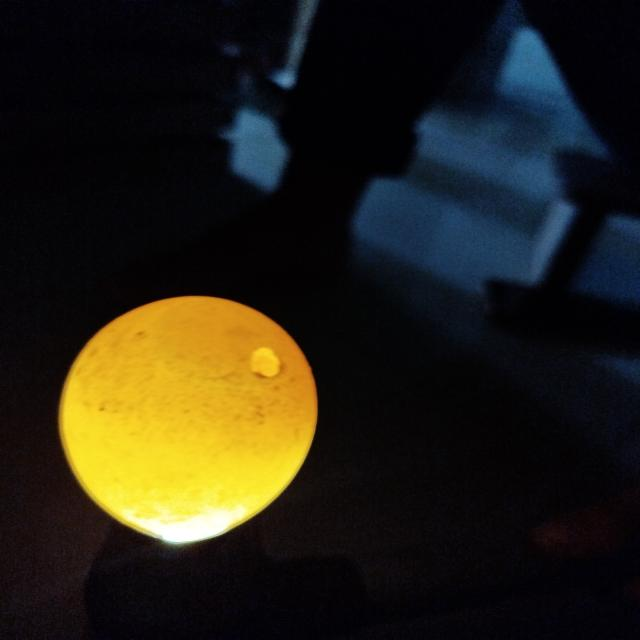Camara de Ar: (154, 299, 287, 388)
